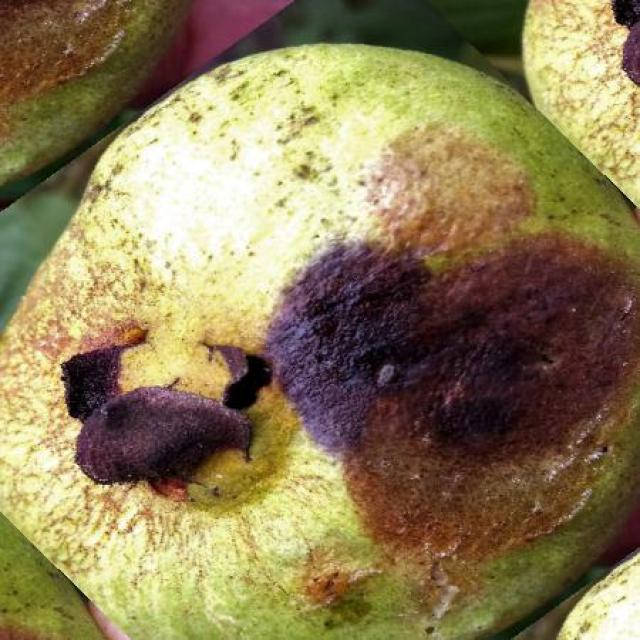Styler and Root: (0, 45, 640, 640)
